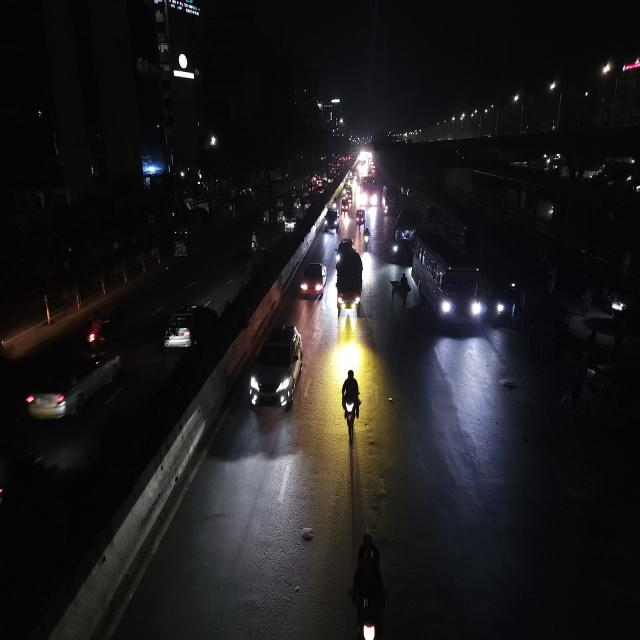bus: (410, 228, 485, 334), (391, 206, 419, 261), (361, 174, 378, 207)
car: (22, 346, 123, 428), (247, 320, 305, 416), (161, 296, 217, 356), (298, 254, 326, 304), (322, 207, 340, 236)
cng: (171, 224, 198, 261), (355, 206, 367, 228), (261, 206, 271, 226), (275, 205, 286, 223), (341, 199, 350, 215)
motorcycle: (345, 527, 395, 640), (338, 365, 363, 442), (83, 308, 113, 351), (249, 226, 259, 256), (362, 226, 371, 253)
pickup_van: (334, 252, 366, 316)
rickshaw: (391, 270, 412, 309)
